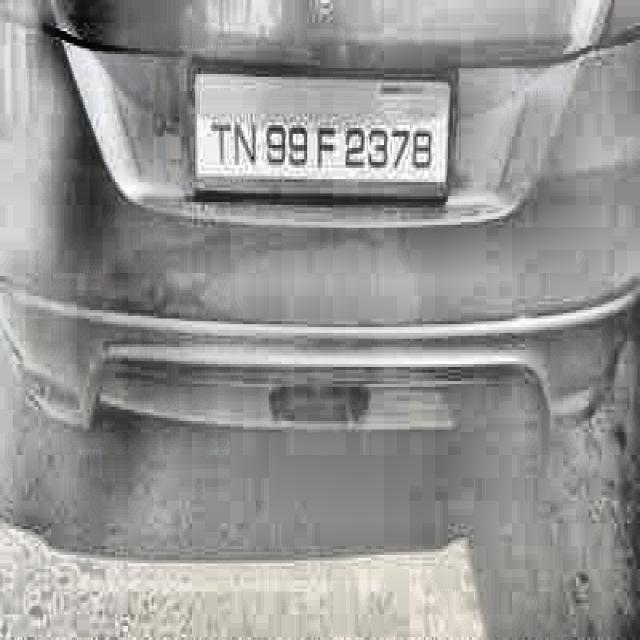license_plate: (198, 73, 441, 186)
